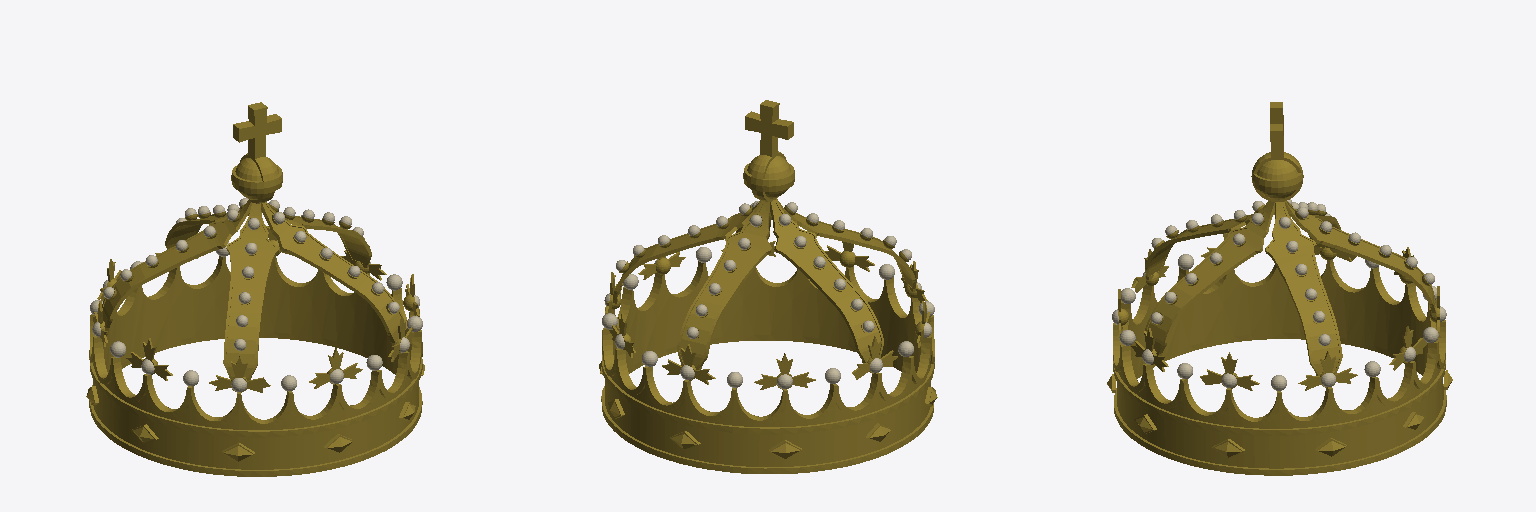
File: crown.obj
The picture shows the model from 3 angles: view 1: azimuth 30°, elevation 25°; view 2: azimuth 150°, elevation 25°; view 3: azimuth 270°, elevation 25°; orthographic projection.
Parts seen in each view (by area): view 1: BallGold; view 2: BallGold; view 3: BallGold.
Part boxes in pixels (x1,y1,x2,y2): BallGold: (86, 102, 424, 476); BallGold: (599, 100, 937, 473); BallGold: (1107, 102, 1452, 475).
Size of the model in its own units: 0.2562 by 0.2549 by 0.2652.